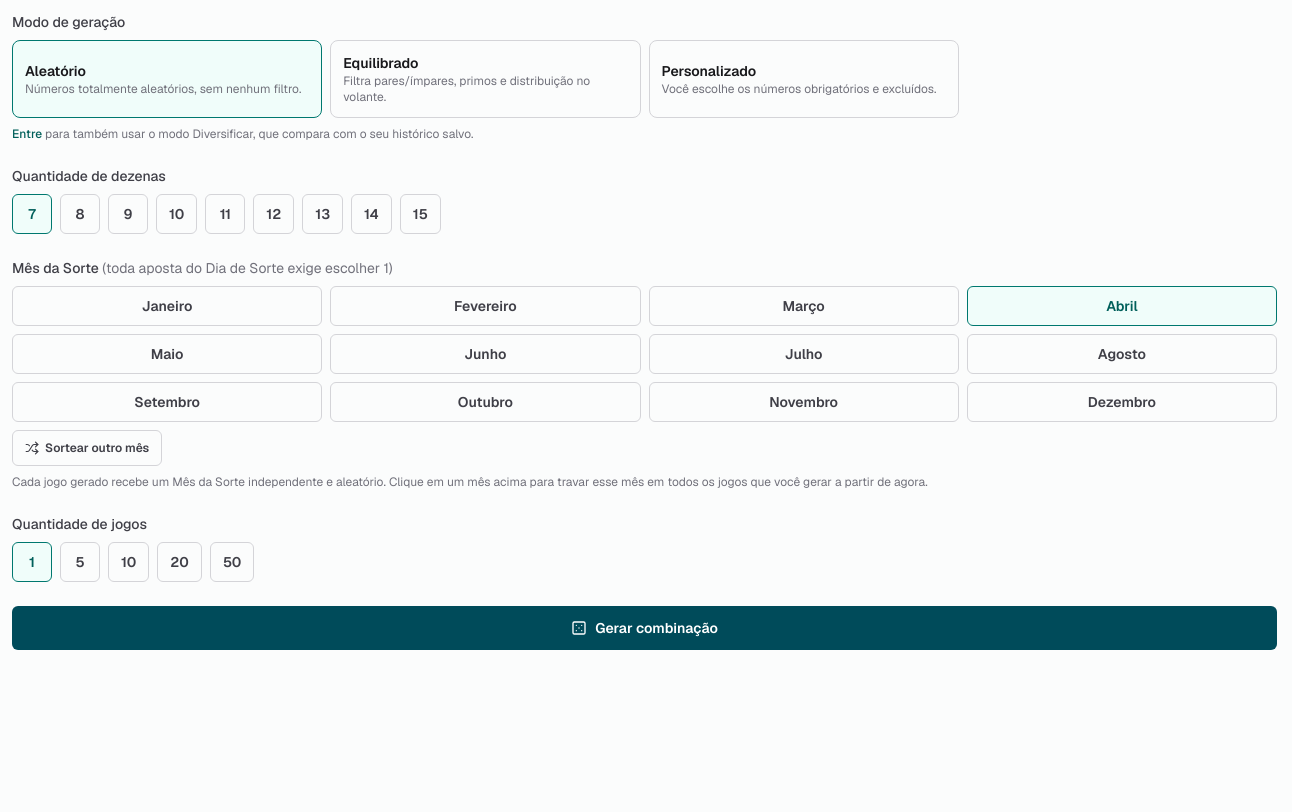
it: DiaDeSorteGenerator › gera um jogo no modo Aleatório (7 dezenas por padrão) com análise completa
Click the button "Gerar combinação" at x=644, y=628, box [12,606,1277,650]
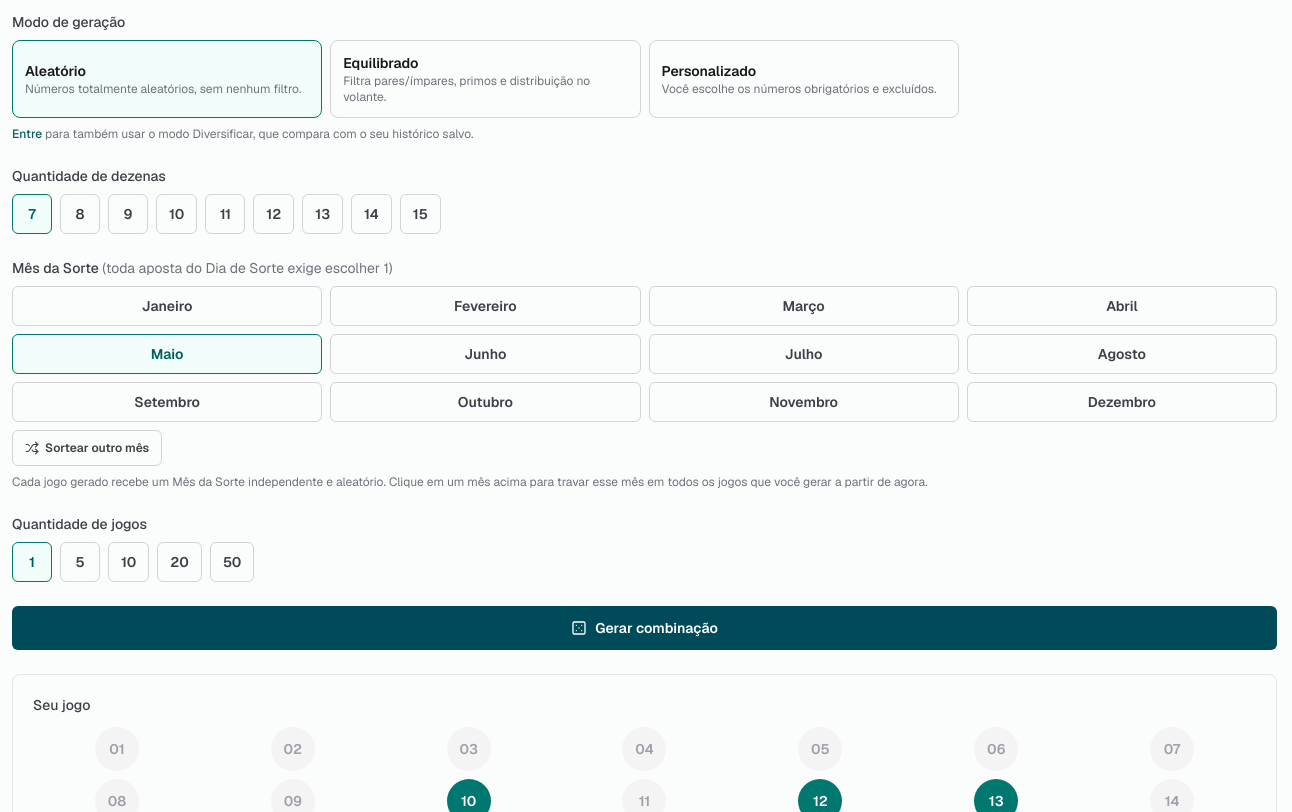
Expected: the text "Seu jogo" is shown, [33,696,90,714]
